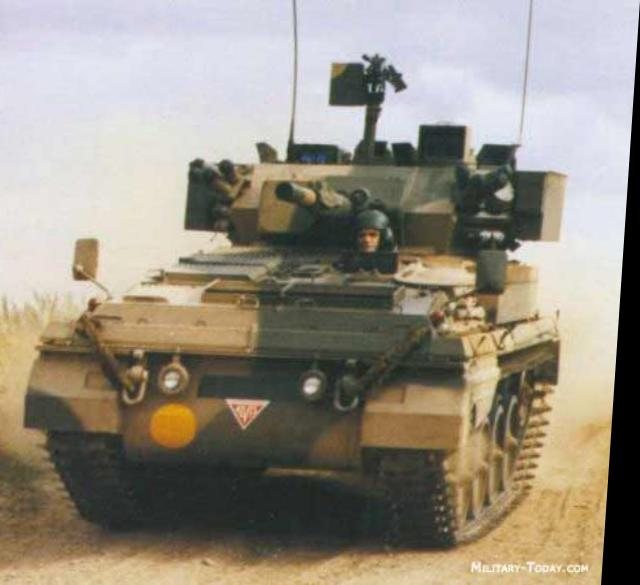other: (328, 193, 410, 288)
tank: (49, 145, 574, 528)
